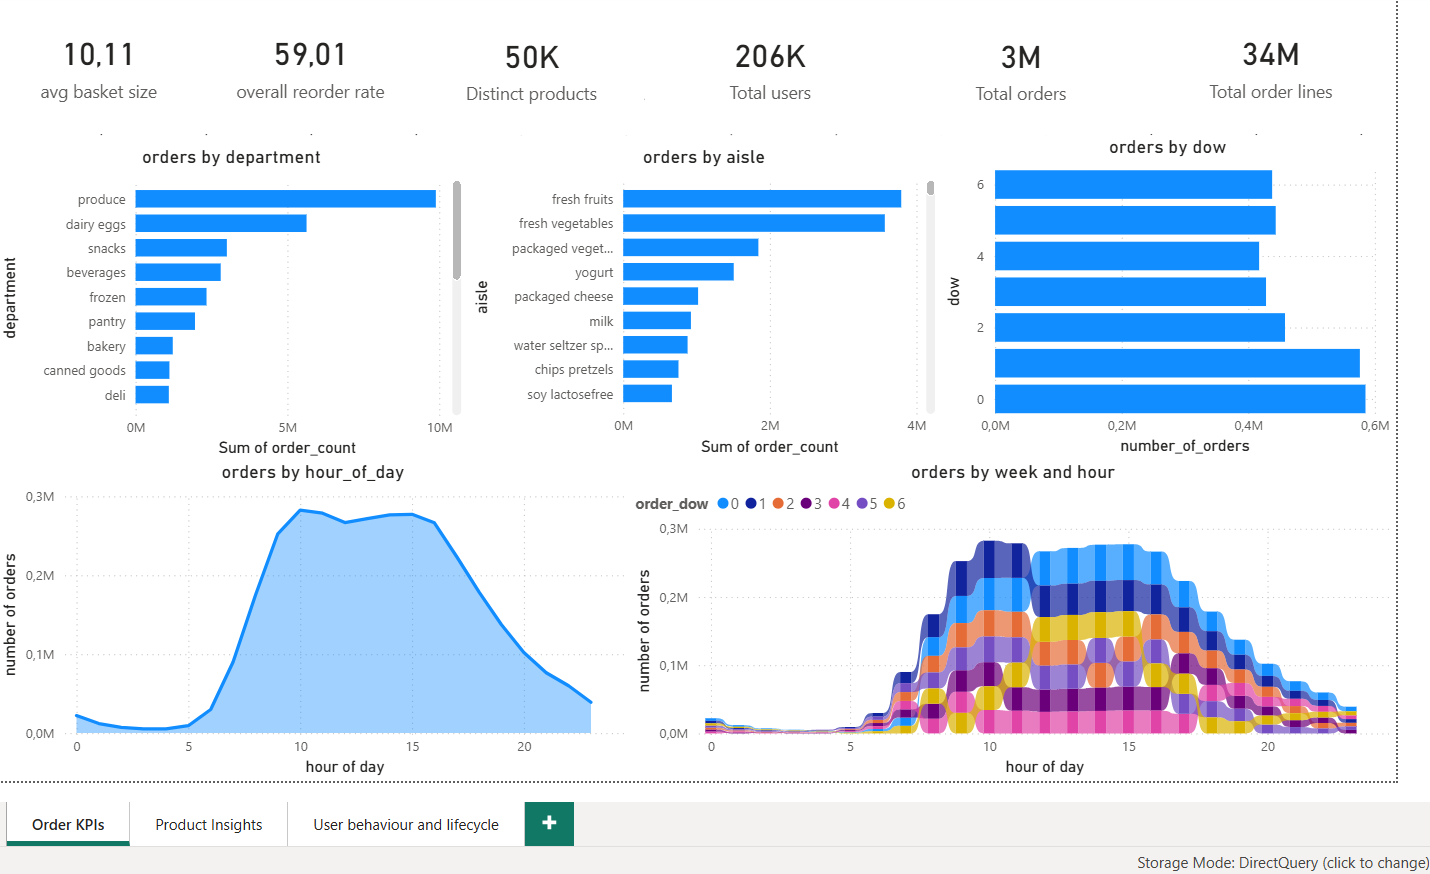

Layout of this report page (visuals, bound fields, positions):
{"tool":"powerbi","page":{"name":"Order KPIs","canvas":[1280,720],"ordinal":0},"visuals":[{"type":"card","fields":{"Values":["Sum(instacart v_kpi_overview.avg_basket_size)"]},"box":[0,0,188.3,128.4],"z":0},{"type":"card","fields":{"Values":["Sum(instacart v_kpi_overview.distinct_products)"]},"box":[386.4,3.7,206.7,126],"z":1000},{"type":"card","fields":{"Values":["Sum(instacart v_kpi_overview.overall_reorder_rate_pct)"]},"box":[188.3,0,198.1,128.4],"z":2000},{"type":"card","fields":{"Values":["Sum(instacart v_kpi_overview.total_order_lines)"]},"box":[1051.6,0,228.7,128.4],"z":3000},{"type":"card","fields":{"Values":["Sum(instacart v_kpi_overview.total_orders)"]},"box":[823,3.7,228.7,126],"z":4000},{"type":"card","fields":{"Values":["Sum(instacart v_kpi_overview.total_users)"]},"box":[593.1,3.7,229.9,124.7],"z":5000},{"type":"clusteredBarChart","title":"orders by dow","fields":{"Category":["instacart v_orders_by_dow.day_of_week"],"Y":["Sum(instacart v_orders_by_dow.number_of_orders)"]},"box":[863.3,129.6,417,297.1],"z":6000},{"type":"areaChart","title":"orders by hour_of_day","fields":{"Y":["Sum(instacart v_orders_by_hour.number_of_orders)"],"Category":["instacart v_orders_by_hour.hour_of_day"]},"box":[0,426.8,579.6,293.5],"z":7000},{"type":"clusteredBarChart","title":"orders by department","fields":{"Category":["instacart v_department_metrics.department"],"Y":["Sum(instacart v_department_metrics.order_count)"]},"box":[0,138.2,430.4,289.8],"z":8000},{"type":"clusteredBarChart","title":"orders by aisle","fields":{"Y":["Sum(instacart v_aisle_metrics.order_count)"],"Category":["instacart v_aisle_metrics.aisle"]},"box":[430.4,138.2,432.9,288.6],"z":9000},{"type":"ribbonChart","title":"orders by week and hour","fields":{"Category":["instacart v_orders_dow_hour.hour_of_day"],"Y":["Sum(instacart v_orders_dow_hour.number_of_orders)"],"Series":["instacart v_orders_dow_hour.order_dow"]},"box":[579.6,426.8,700.7,293.5],"z":10000}]}

Visuals, with their boxes on the page's 1280x720 design canvas (x1, y1, x2, y2). These are canvas units, not pixel positions in the 1430x874 screenshot, which may show the page scaled, cropped or inside an application window:
card - Sum(instacart v_kpi_overview.avg_basket_size): <bbox>0, 0, 188, 128</bbox>
card - Sum(instacart v_kpi_overview.distinct_products): <bbox>386, 4, 593, 130</bbox>
card - Sum(instacart v_kpi_overview.overall_reorder_rate_pct): <bbox>188, 0, 386, 128</bbox>
card - Sum(instacart v_kpi_overview.total_order_lines): <bbox>1052, 0, 1280, 128</bbox>
card - Sum(instacart v_kpi_overview.total_orders): <bbox>823, 4, 1052, 130</bbox>
card - Sum(instacart v_kpi_overview.total_users): <bbox>593, 4, 823, 128</bbox>
"orders by dow" clusteredBarChart: <bbox>863, 130, 1280, 427</bbox>
"orders by hour_of_day" areaChart: <bbox>0, 427, 580, 720</bbox>
"orders by department" clusteredBarChart: <bbox>0, 138, 430, 428</bbox>
"orders by aisle" clusteredBarChart: <bbox>430, 138, 863, 427</bbox>
"orders by week and hour" ribbonChart: <bbox>580, 427, 1280, 720</bbox>
